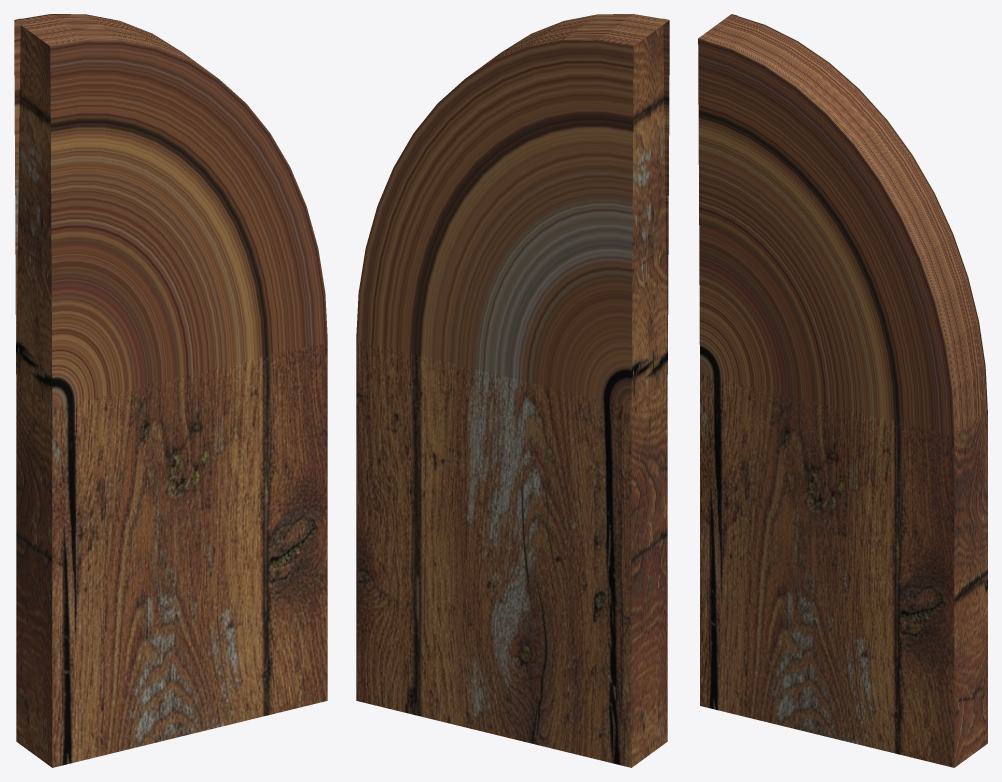
The model's file is PuertaNormal.obj.
3 renders of one model, left to right at view 1: azimuth 30°, elevation 25°; view 2: azimuth 150°, elevation 25°; view 3: azimuth 330°, elevation 25°, orthographic. The views are drawn at different scales.
Visible parts, largest first — view 1: Cube.001_Material.002; view 2: Cube.001_Material.002; view 3: Cube.001_Material.002.
Part boxes in pixels (x1,y1,x2,y2): Cube.001_Material.002: (14,14,327,767); Cube.001_Material.002: (356,14,669,767); Cube.001_Material.002: (698,14,987,767).
Size of the model in its own units: 8.86 by 22.03 by 2.
Materials: 1 (1 with a texture image).
